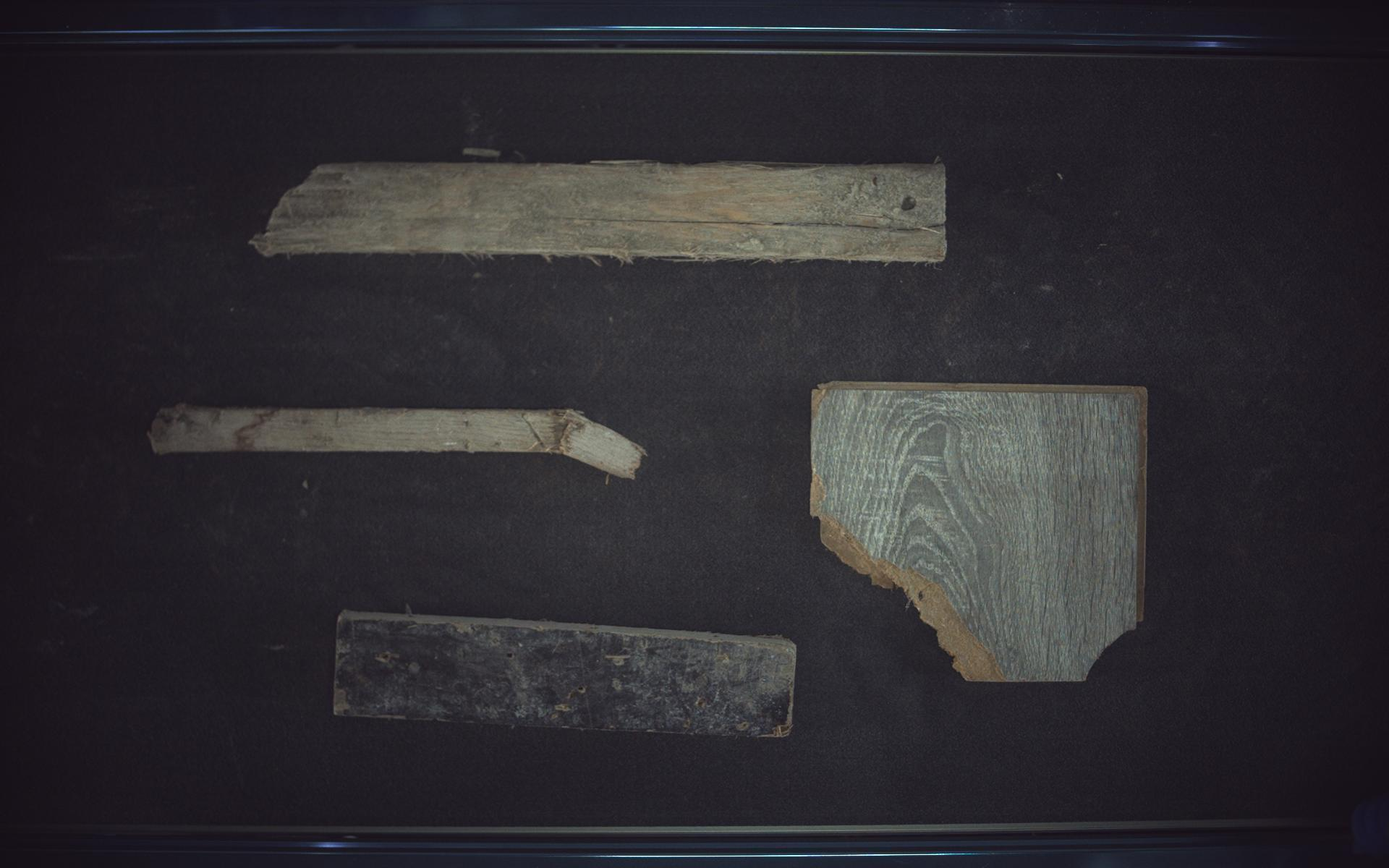wood: (812, 382, 1150, 683), (251, 160, 948, 262), (333, 611, 797, 739), (148, 404, 646, 479)
